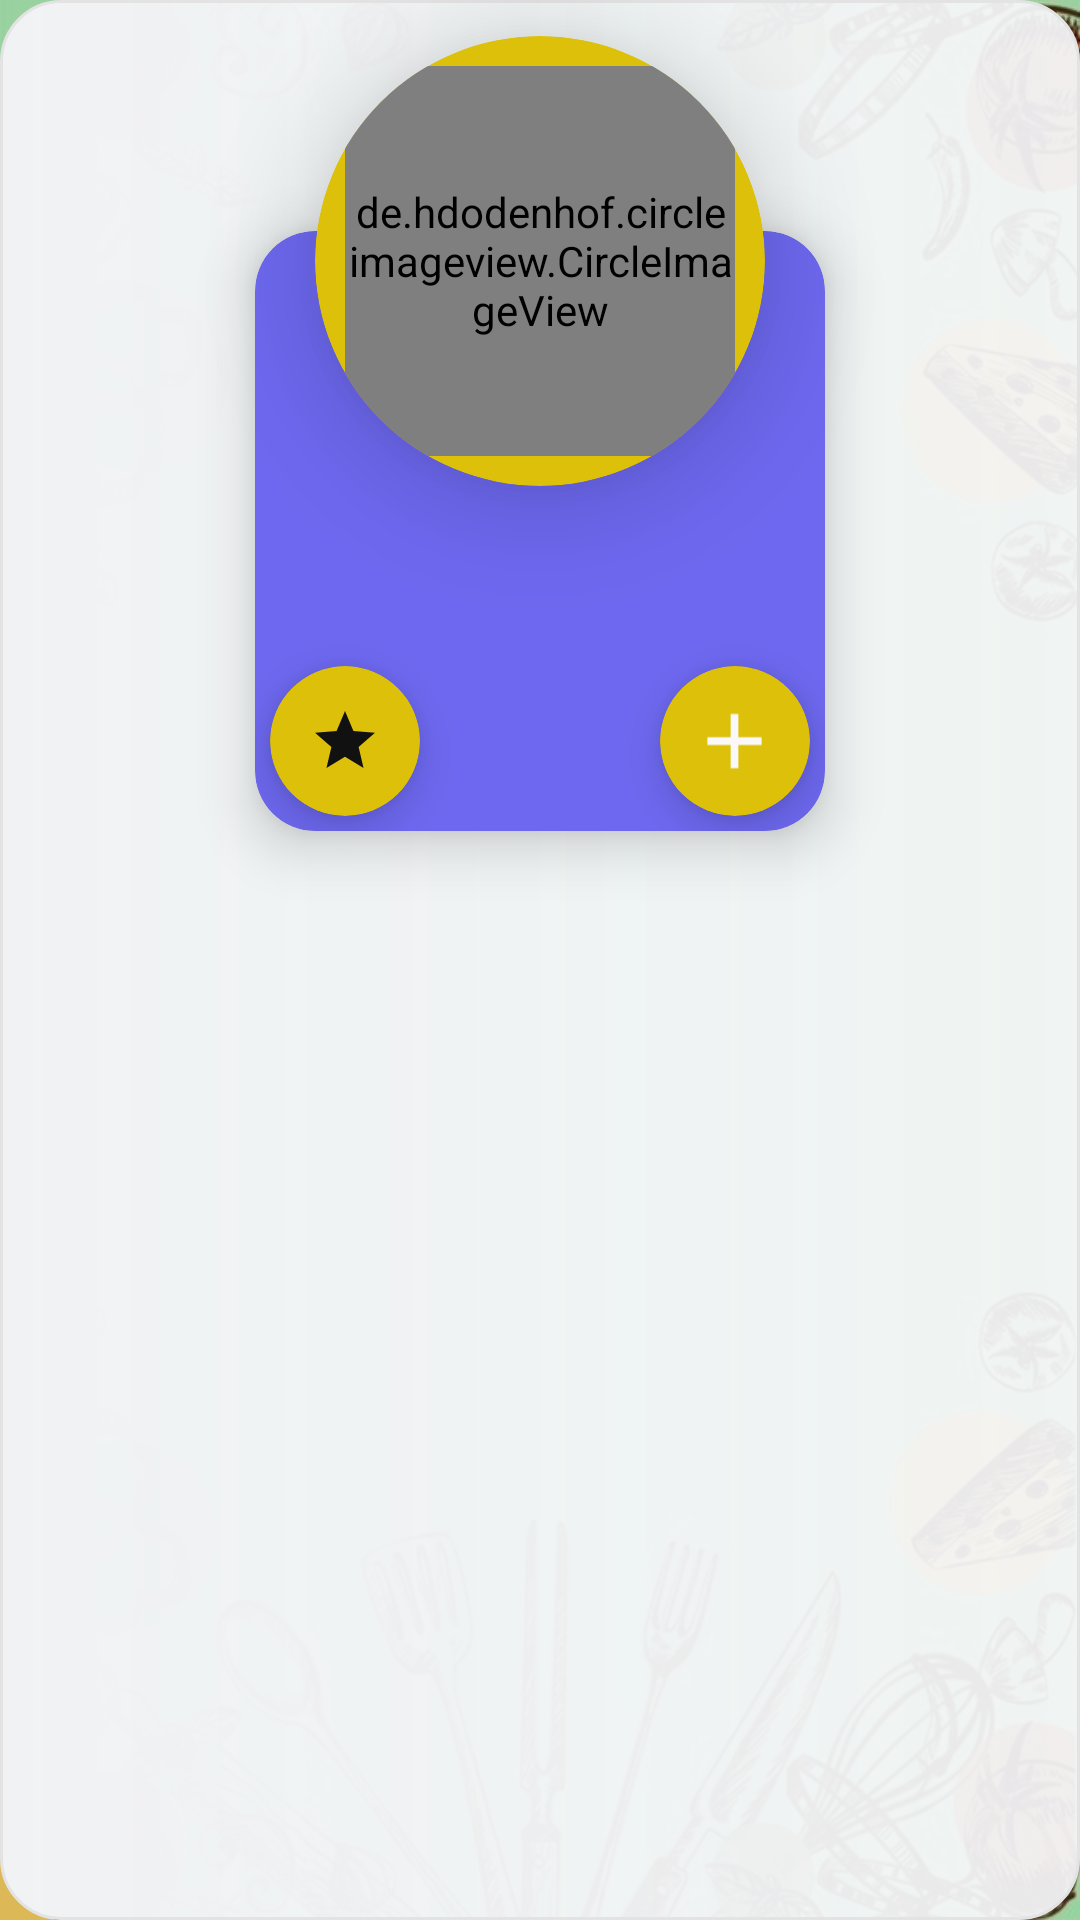

Icon bounding boxes for this 1080*1920 phone screenshot, format (x1, y1, x2, y2):
add: (707, 713, 762, 769)
star: (315, 711, 375, 768)
